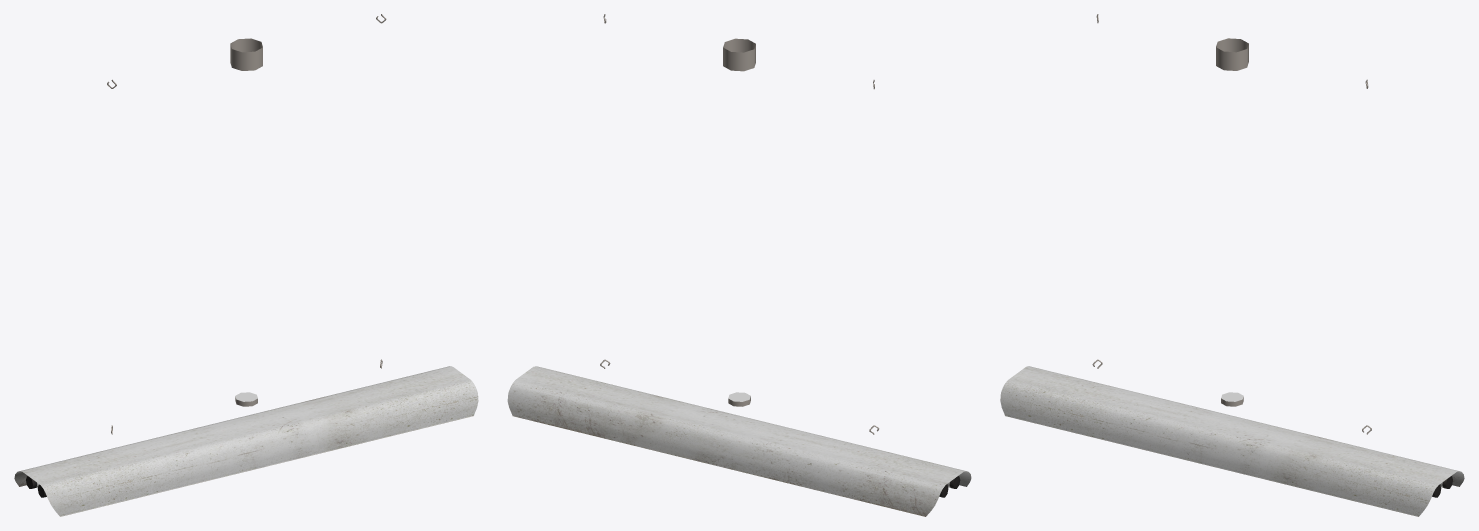
File: sm35_001_OnceCeilingLight.fbx
The picture shows the model from 3 angles, left to right: view 1: azimuth 30°, elevation 25°; view 2: azimuth 150°, elevation 25°; view 3: azimuth 330°, elevation 25°; orthographic projection.
Visible parts, largest first — view 1: LOD_1_Group_0_Sub_1__sm35_001_OnCeilingLight01A_A_Mat; view 2: LOD_1_Group_0_Sub_1__sm35_001_OnCeilingLight01A_A_Mat; view 3: LOD_1_Group_0_Sub_1__sm35_001_OnCeilingLight01A_A_Mat.
Part boxes in pixels (x1=…): LOD_1_Group_0_Sub_1__sm35_001_OnCeilingLight01A_A_Mat: x1=14, y1=14, x2=478, y2=516; LOD_1_Group_0_Sub_1__sm35_001_OnCeilingLight01A_A_Mat: x1=507, y1=14, x2=971, y2=516; LOD_1_Group_0_Sub_1__sm35_001_OnCeilingLight01A_A_Mat: x1=1000, y1=14, x2=1464, y2=516.
Size of the model in its own units: 1.2 by 1.08 by 0.1996.
